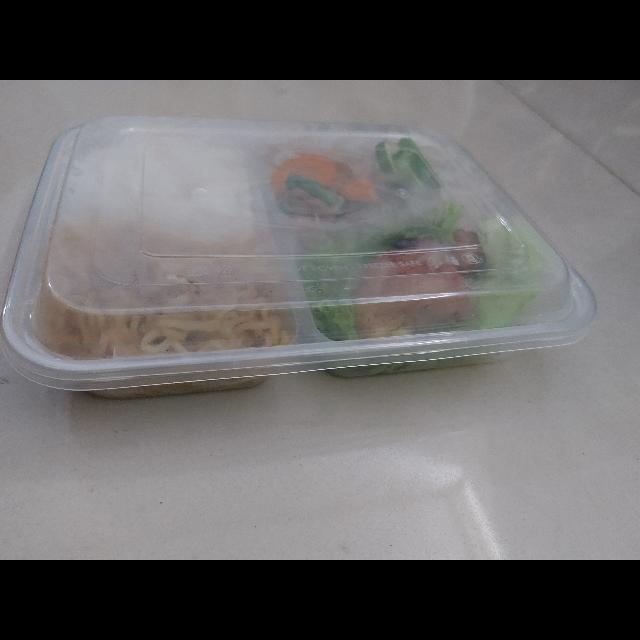bento: (2, 111, 611, 423)
